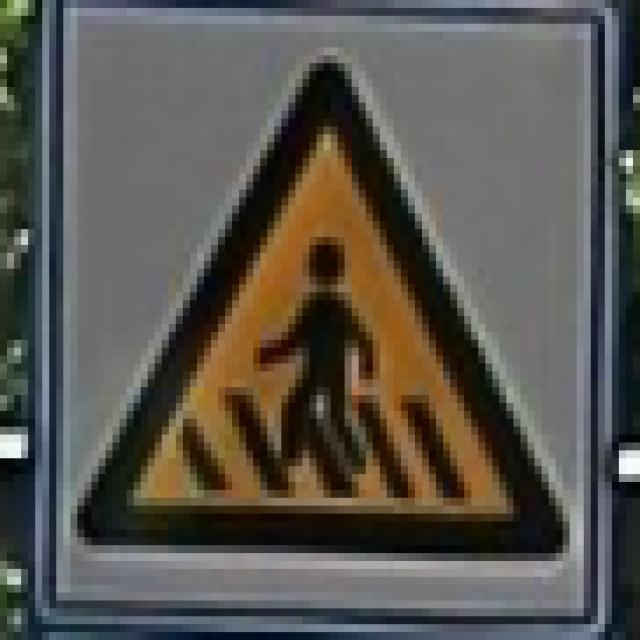Crossing: (73, 56, 576, 564)
